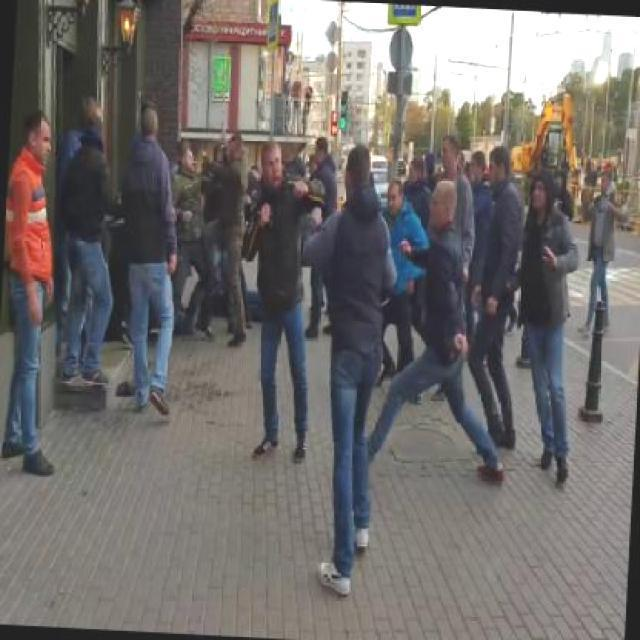fight: (164, 130, 261, 347)
non-fight: (0, 103, 68, 479)
